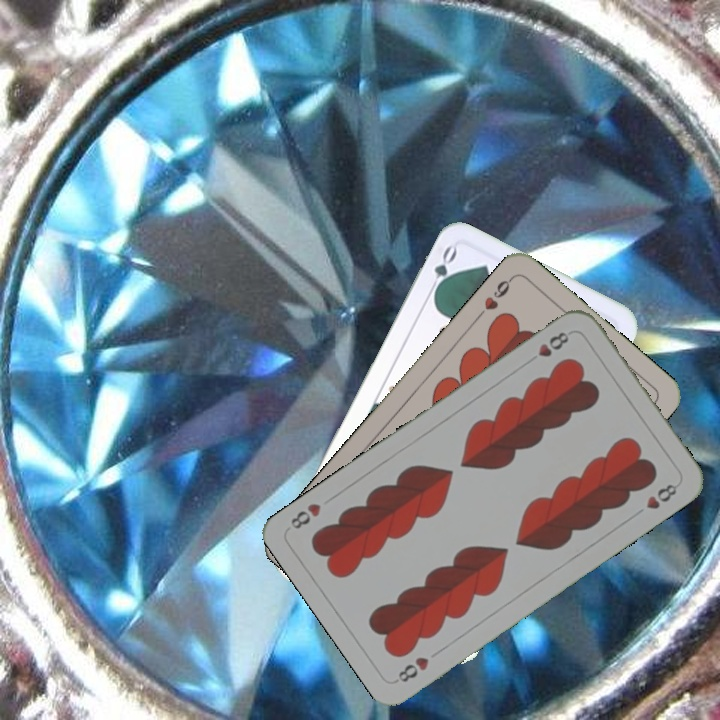GO: (423, 242, 460, 301)
H8: (523, 327, 572, 367), (392, 652, 432, 685)
H9: (473, 273, 516, 321)
